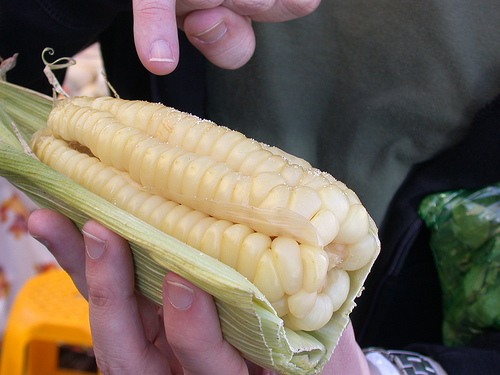corn: (32, 94, 382, 331)
